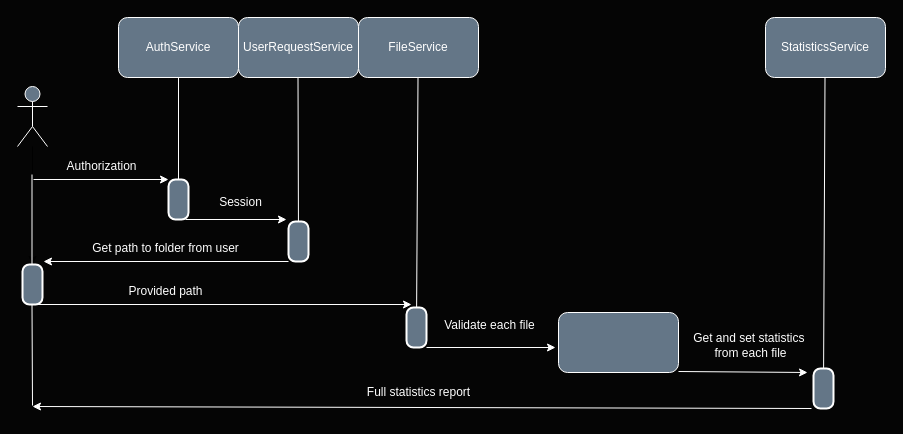
The diagram is 903 pixels wide and 434 high, and some of its shapes have lost their labels. The box of each missing label's shape, as (x1, y1, x2, y2) in pixels:
FileValidation: (558, 312, 678, 372)
User: (16, 86, 48, 146)
